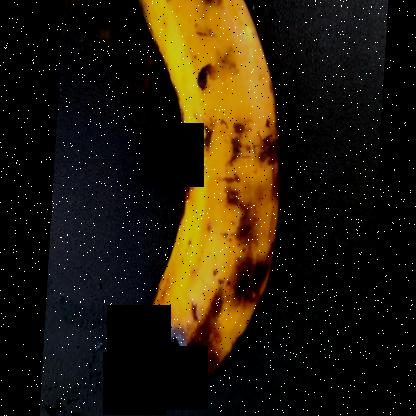overripe: (126, 1, 280, 237)
rotten: (121, 189, 311, 415)
